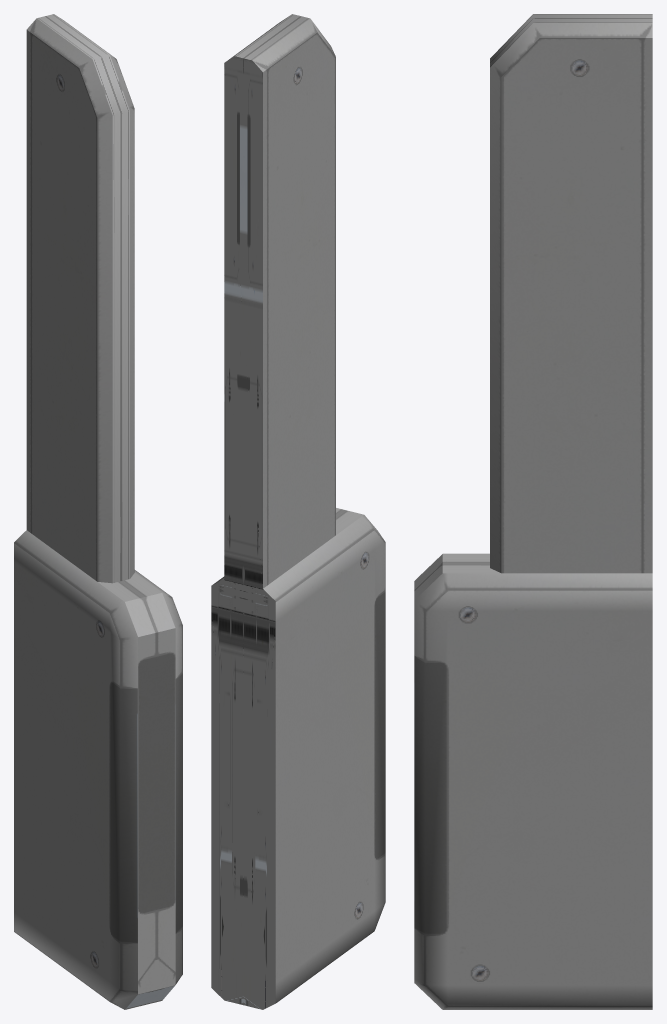
The model's file is SM_SPillarS04.fbx.
The picture shows the model from 3 angles, left to right: view 1: azimuth 30°, elevation 25°; view 2: azimuth 150°, elevation 25°; view 3: azimuth 270°, elevation 25°; orthographic projection. The views are drawn at different scales.
Parts seen in each view (by area): view 1: SM_SPillarS04_LOD0; view 2: SM_SPillarS04_LOD0; view 3: SM_SPillarS04_LOD0.
Part boxes in pixels (x1,y1,x2,y2): SM_SPillarS04_LOD0: [14, 14, 182, 1009]; SM_SPillarS04_LOD0: [211, 14, 385, 1009]; SM_SPillarS04_LOD0: [414, 14, 652, 1009].
Bounding box in the file's own units: 25 × 77.43 × 351.
Materials: 1 (1 with a texture image).
